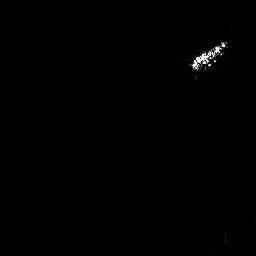ship: (187, 36, 231, 74)
